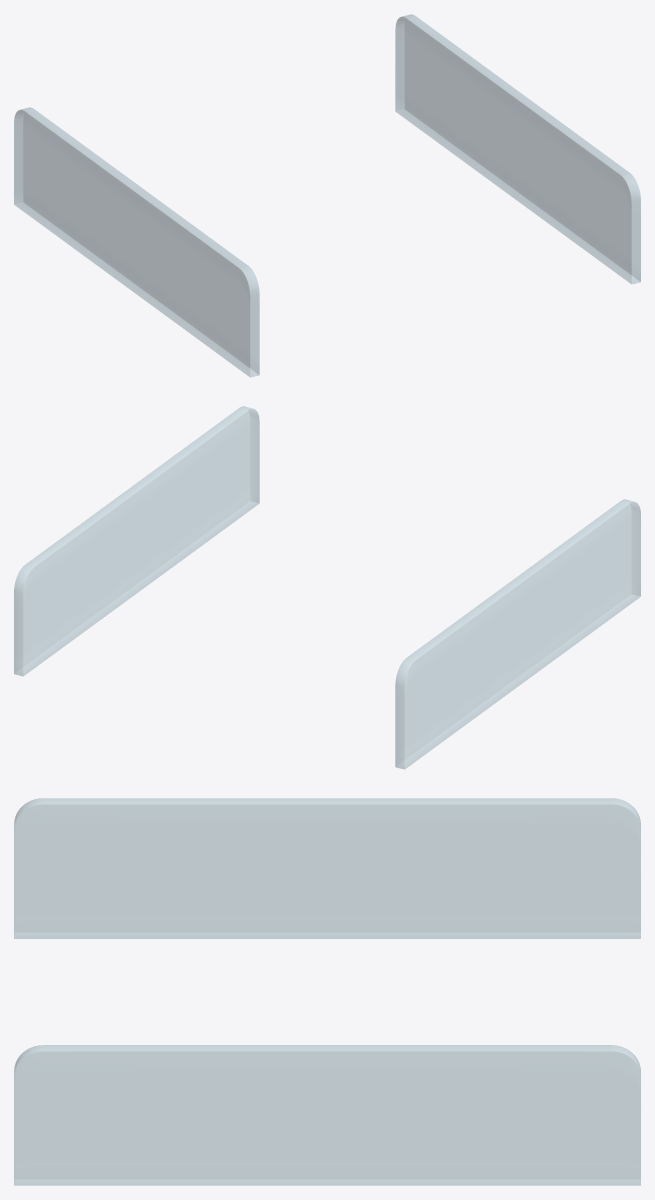
File: SM_GlassWall_Block_Straight.fbx
3 views of the same model, one above another, from view 1: azimuth 30°, elevation 25°; view 2: azimuth 150°, elevation 25°; view 3: azimuth 270°, elevation 25° (orthographic). The views are drawn at different scales.
Parts seen in each view (by area): view 1: SM_GlassWall_Block_Straight; view 2: SM_GlassWall_Block_Straight; view 3: SM_GlassWall_Block_Straight.
Part boxes in pixels (x1=…): SM_GlassWall_Block_Straight: x1=14, y1=14, x2=640, y2=377; SM_GlassWall_Block_Straight: x1=14, y1=406, x2=640, y2=769; SM_GlassWall_Block_Straight: x1=14, y1=798, x2=640, y2=1185.
Size of the model in its own units: 1.85 by 0.46 by 1.94.
